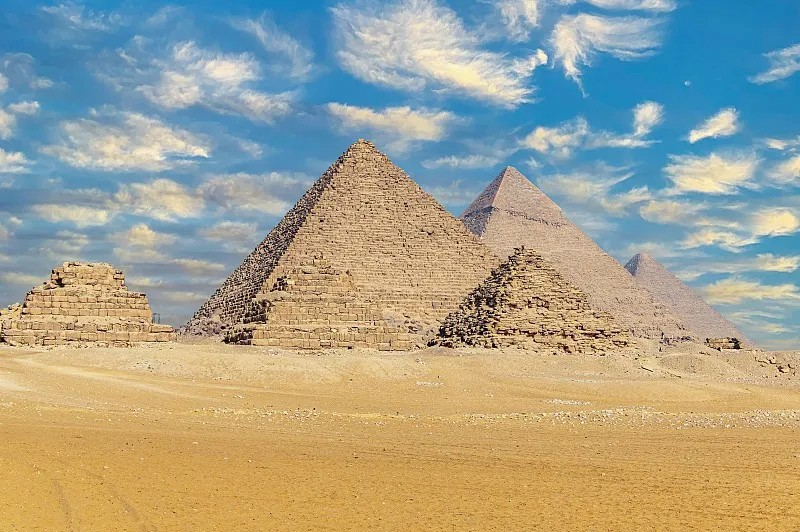Pyramid: (182, 137, 504, 346), (460, 167, 713, 352), (433, 245, 641, 354), (223, 250, 424, 351), (1, 262, 178, 345), (626, 253, 760, 349)
